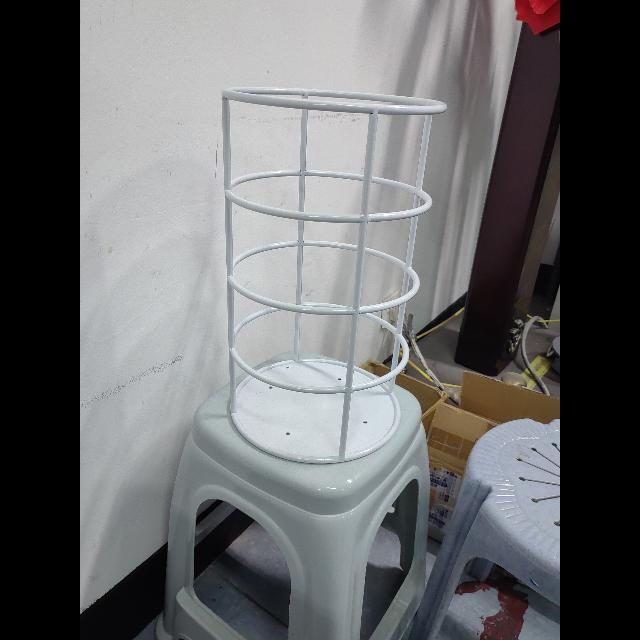S: (215, 82, 450, 472)
